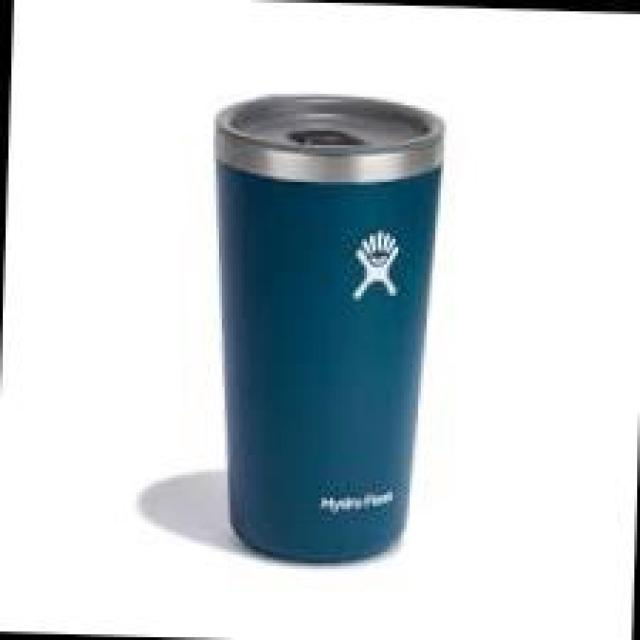bottle: (189, 82, 454, 569)
